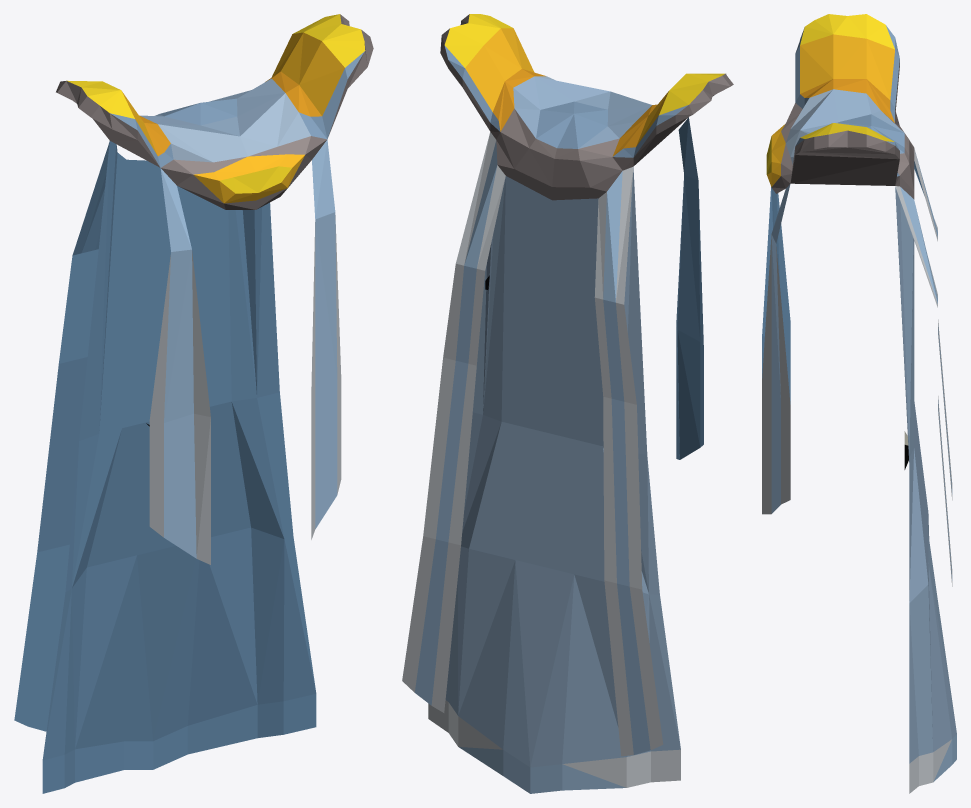
Rendered from fishing.gltf.
The picture shows the model from 3 angles, left to right: view 1: azimuth 30°, elevation 25°; view 2: azimuth 150°, elevation 25°; view 3: azimuth 270°, elevation 25°; orthographic projection. The views are drawn at different scales.
Size of the model in its own units: 64 by 159 by 41.
1 material, 1 textured.
